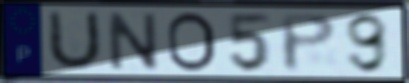5: (225, 11, 276, 74)
9: (342, 12, 392, 75)
N: (104, 10, 162, 72)
O: (165, 10, 219, 73)
P: (277, 12, 339, 74)
U: (45, 8, 104, 73)
